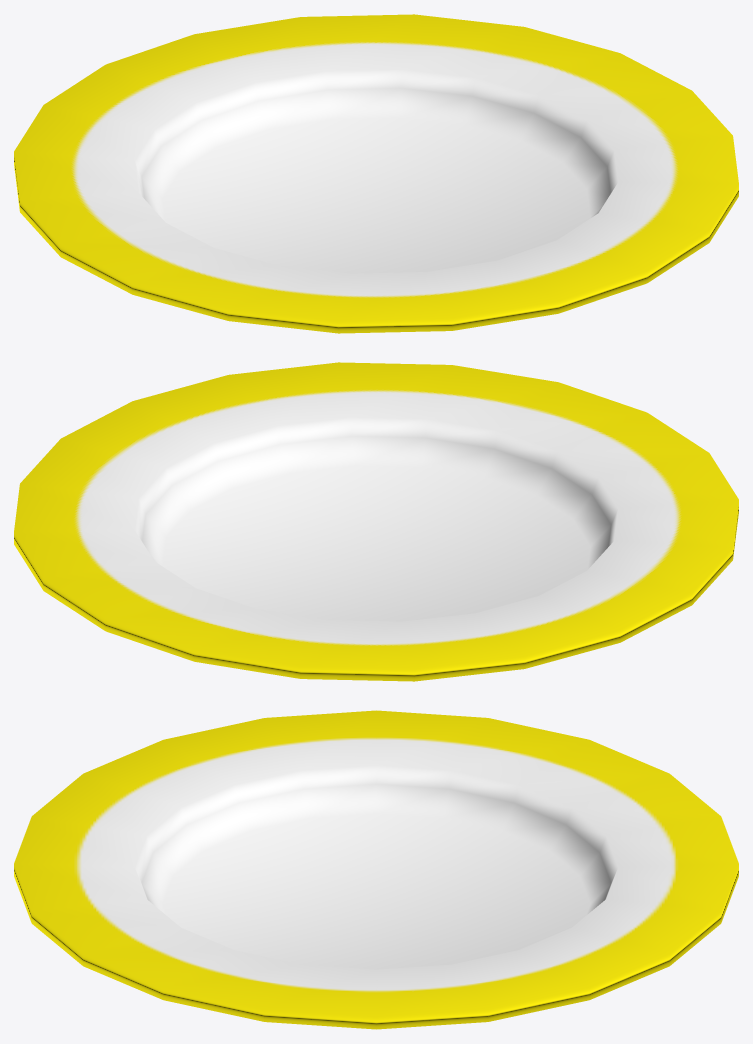
The model's file is plate.fbx.
3 renders of one model, top to bottom at view 1: azimuth 30°, elevation 25°; view 2: azimuth 150°, elevation 25°; view 3: azimuth 270°, elevation 25°, orthographic.
Visible parts, largest first — view 1: pCylinder1; view 2: pCylinder1; view 3: pCylinder1.
Part boxes in pixels (left/top/right/bottom): pCylinder1: left=14, top=14, right=738, bottom=333; pCylinder1: left=14, top=362, right=738, bottom=681; pCylinder1: left=14, top=710, right=738, bottom=1029.
Size of the model in its own units: 14 by 1.13 by 14.
Materials: 1 (1 with a texture image).
